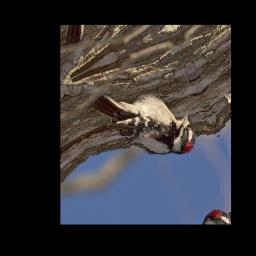Woodpecker: (89, 60, 203, 187)
